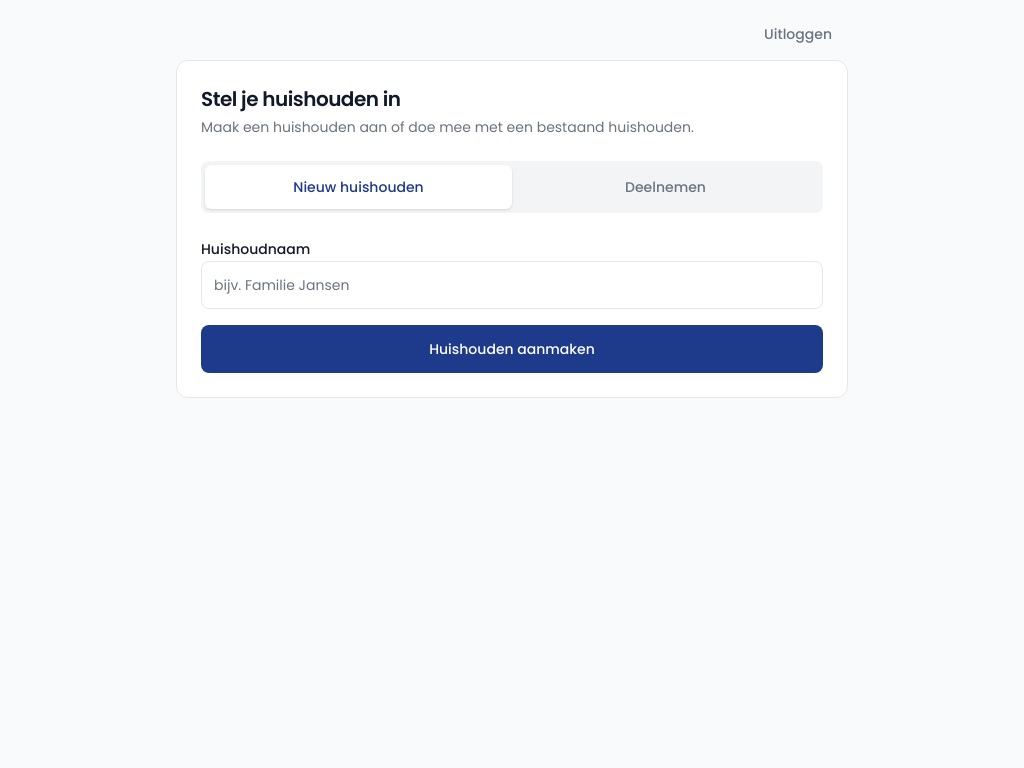
Test case: HouseholdSetupClient › joining a household › shows a wrong code inline on the field rather than as a toast
The width and height of the screenshot is (1024, 768).
Click the tab "Deelnemen" at [666, 187], box [512, 165, 819, 209]
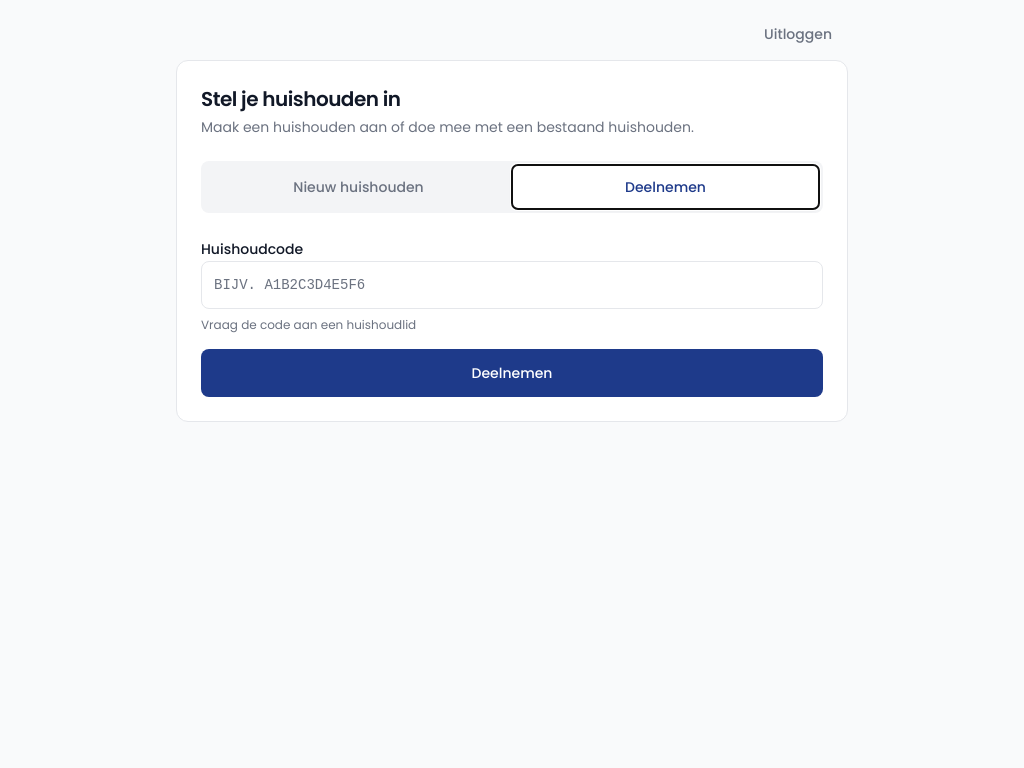
Type "NOPE" into the field labelled "Huishoudcode" at [512, 285], box [201, 261, 823, 309]
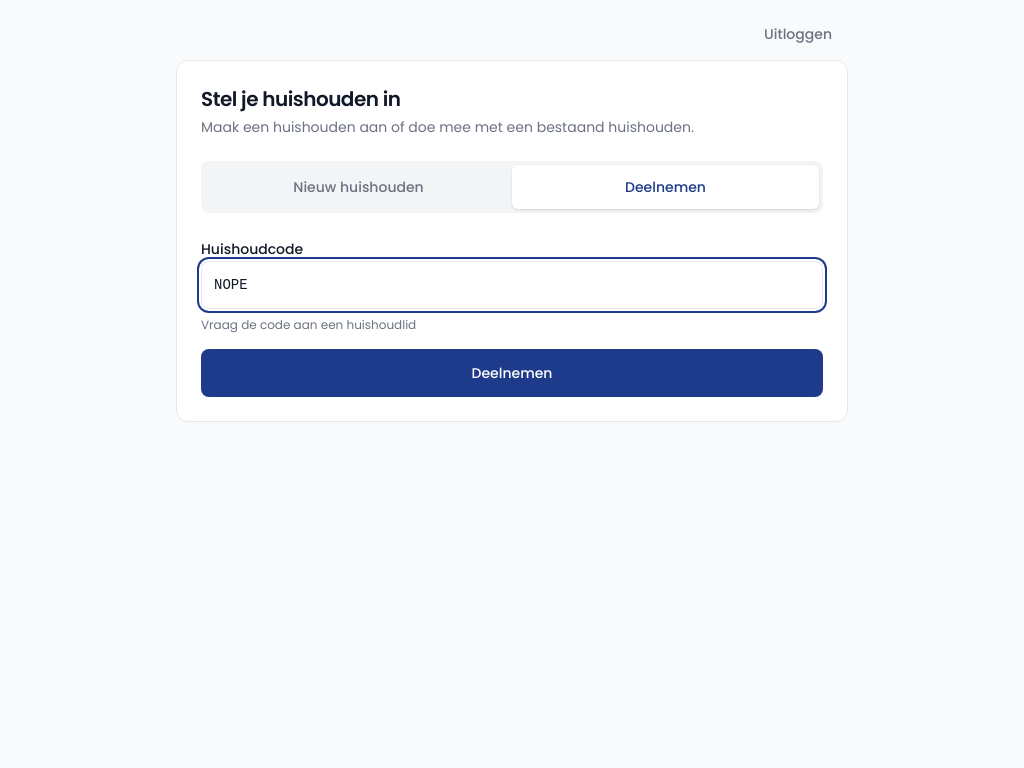
Click the button "Deelnemen" at [512, 373], box [201, 349, 823, 397]
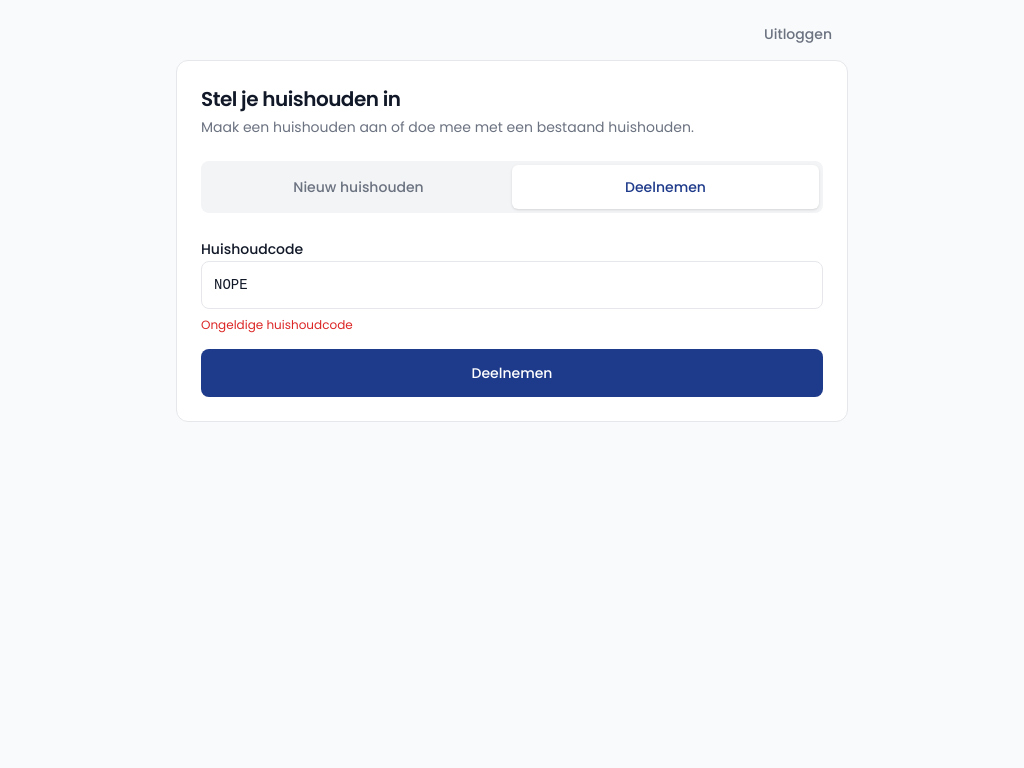
Expected: the text "Ongeldige huishoudcode" is shown, [201, 316, 353, 333]
